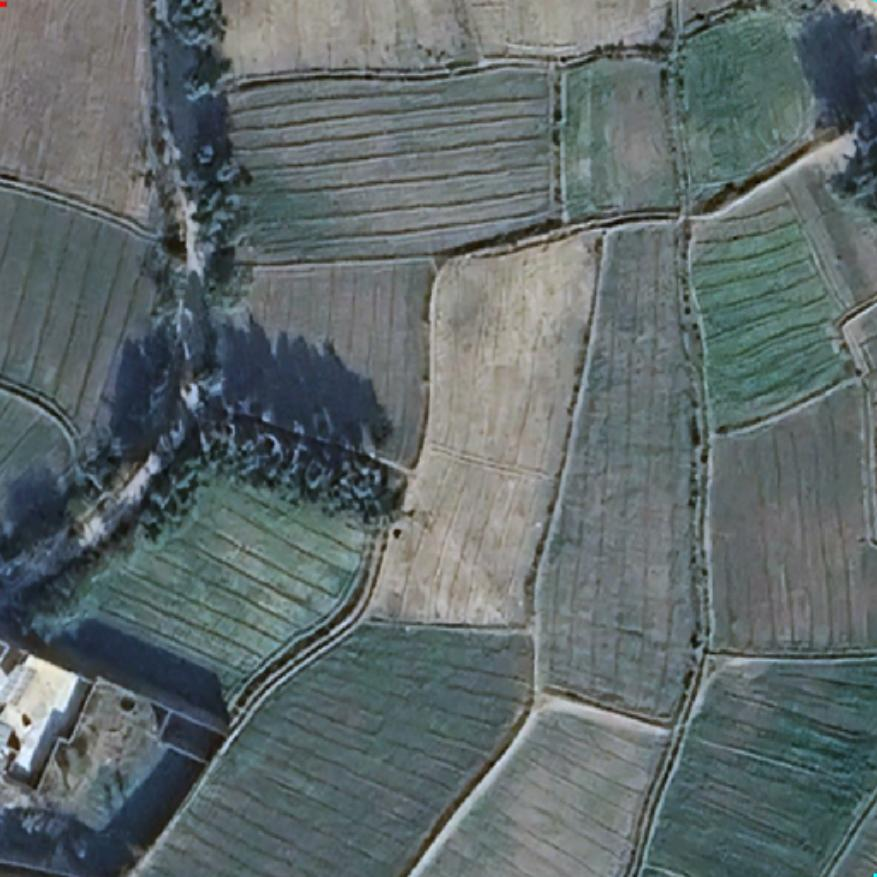Solarpanel: (0, 659, 34, 712)
